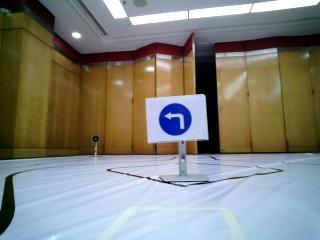left: (149, 101, 208, 138)
